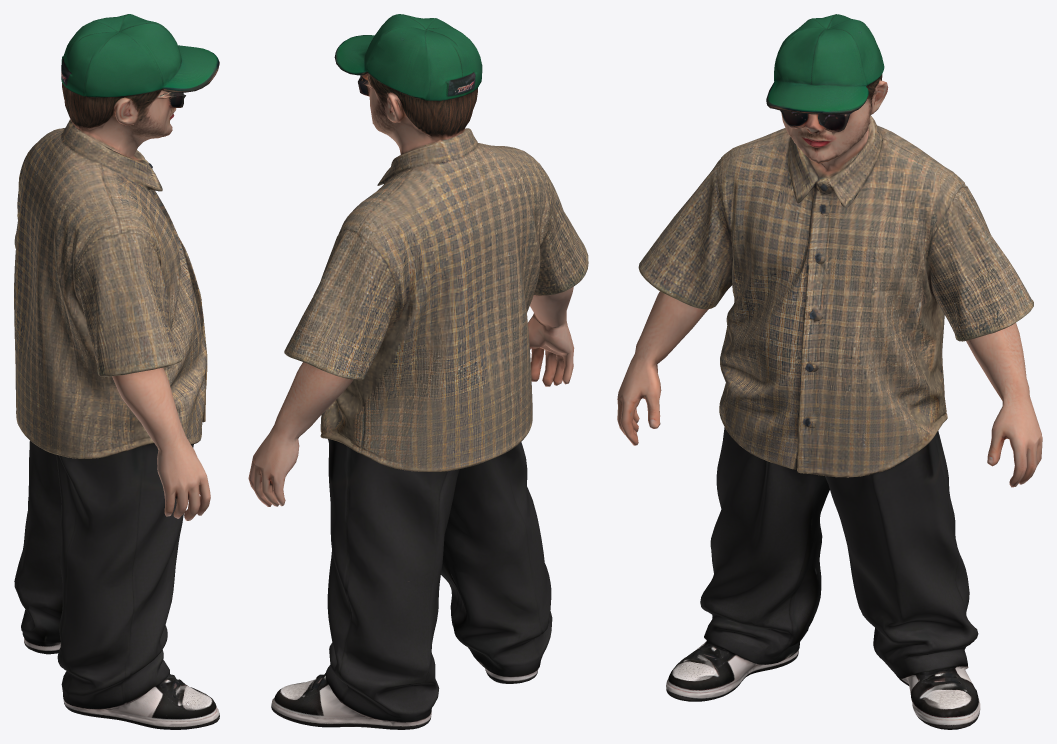
The model's file is omfu.glb.
The picture shows the model from 3 angles, left to right: view 1: azimuth 30°, elevation 25°; view 2: azimuth 150°, elevation 25°; view 3: azimuth 270°, elevation 25°; orthographic projection. The views are drawn at different scales.
Parts seen in each view (by area): view 1: tripo_node_2b58c44c-9593-4415-86c3-ff35b493002b; view 2: tripo_node_2b58c44c-9593-4415-86c3-ff35b493002b; view 3: tripo_node_2b58c44c-9593-4415-86c3-ff35b493002b.
Part boxes in pixels (bbox=[...]): tripo_node_2b58c44c-9593-4415-86c3-ff35b493002b: bbox=[14, 14, 219, 729]; tripo_node_2b58c44c-9593-4415-86c3-ff35b493002b: bbox=[248, 14, 588, 729]; tripo_node_2b58c44c-9593-4415-86c3-ff35b493002b: bbox=[617, 14, 1042, 729].
Size of the model in its own units: 0.2851 by 1 by 0.5798.
Materials: 1 (1 with a texture image).
